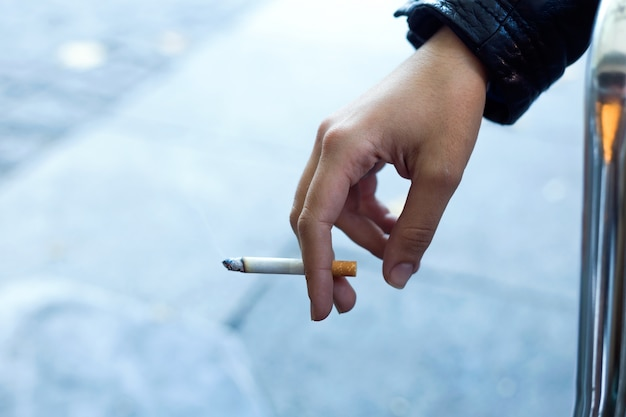cigarette: (219, 253, 357, 277)
